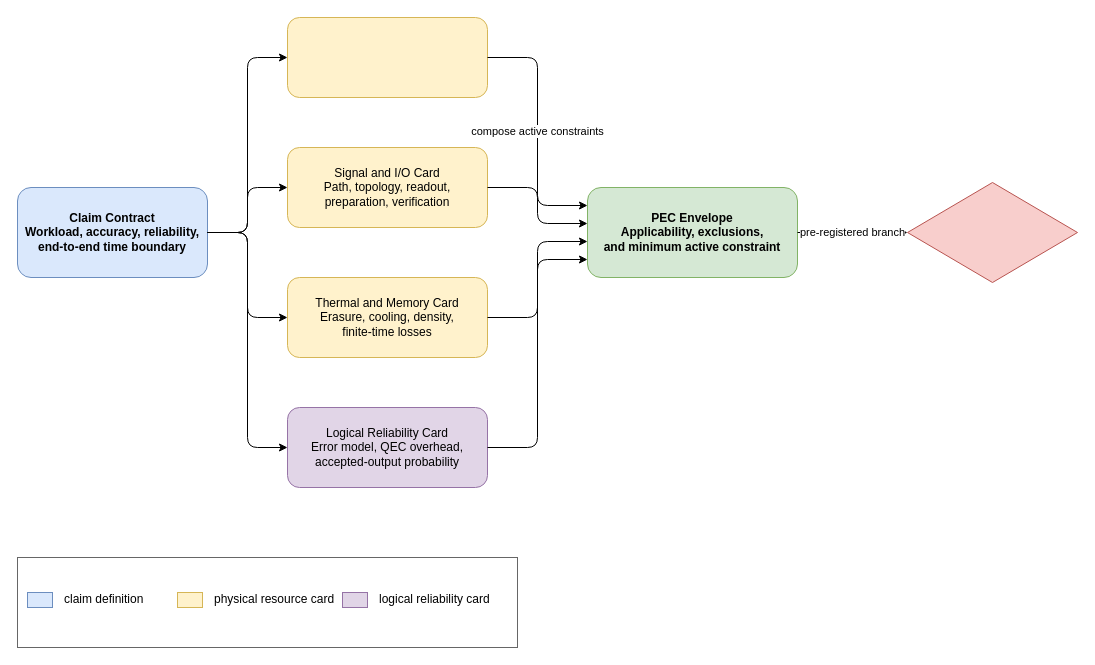
Image size: 1095x665. Some labels were removed from this diagram. Each missing label, with the box of its shape:
Conditional Decision In-scope support, hold, redesign, or inconclusive: (906, 182, 1078, 282)
Legend: (16, 556, 518, 648)
Transition Card Switching or QSL applicability and control assumptions: (286, 16, 488, 98)
